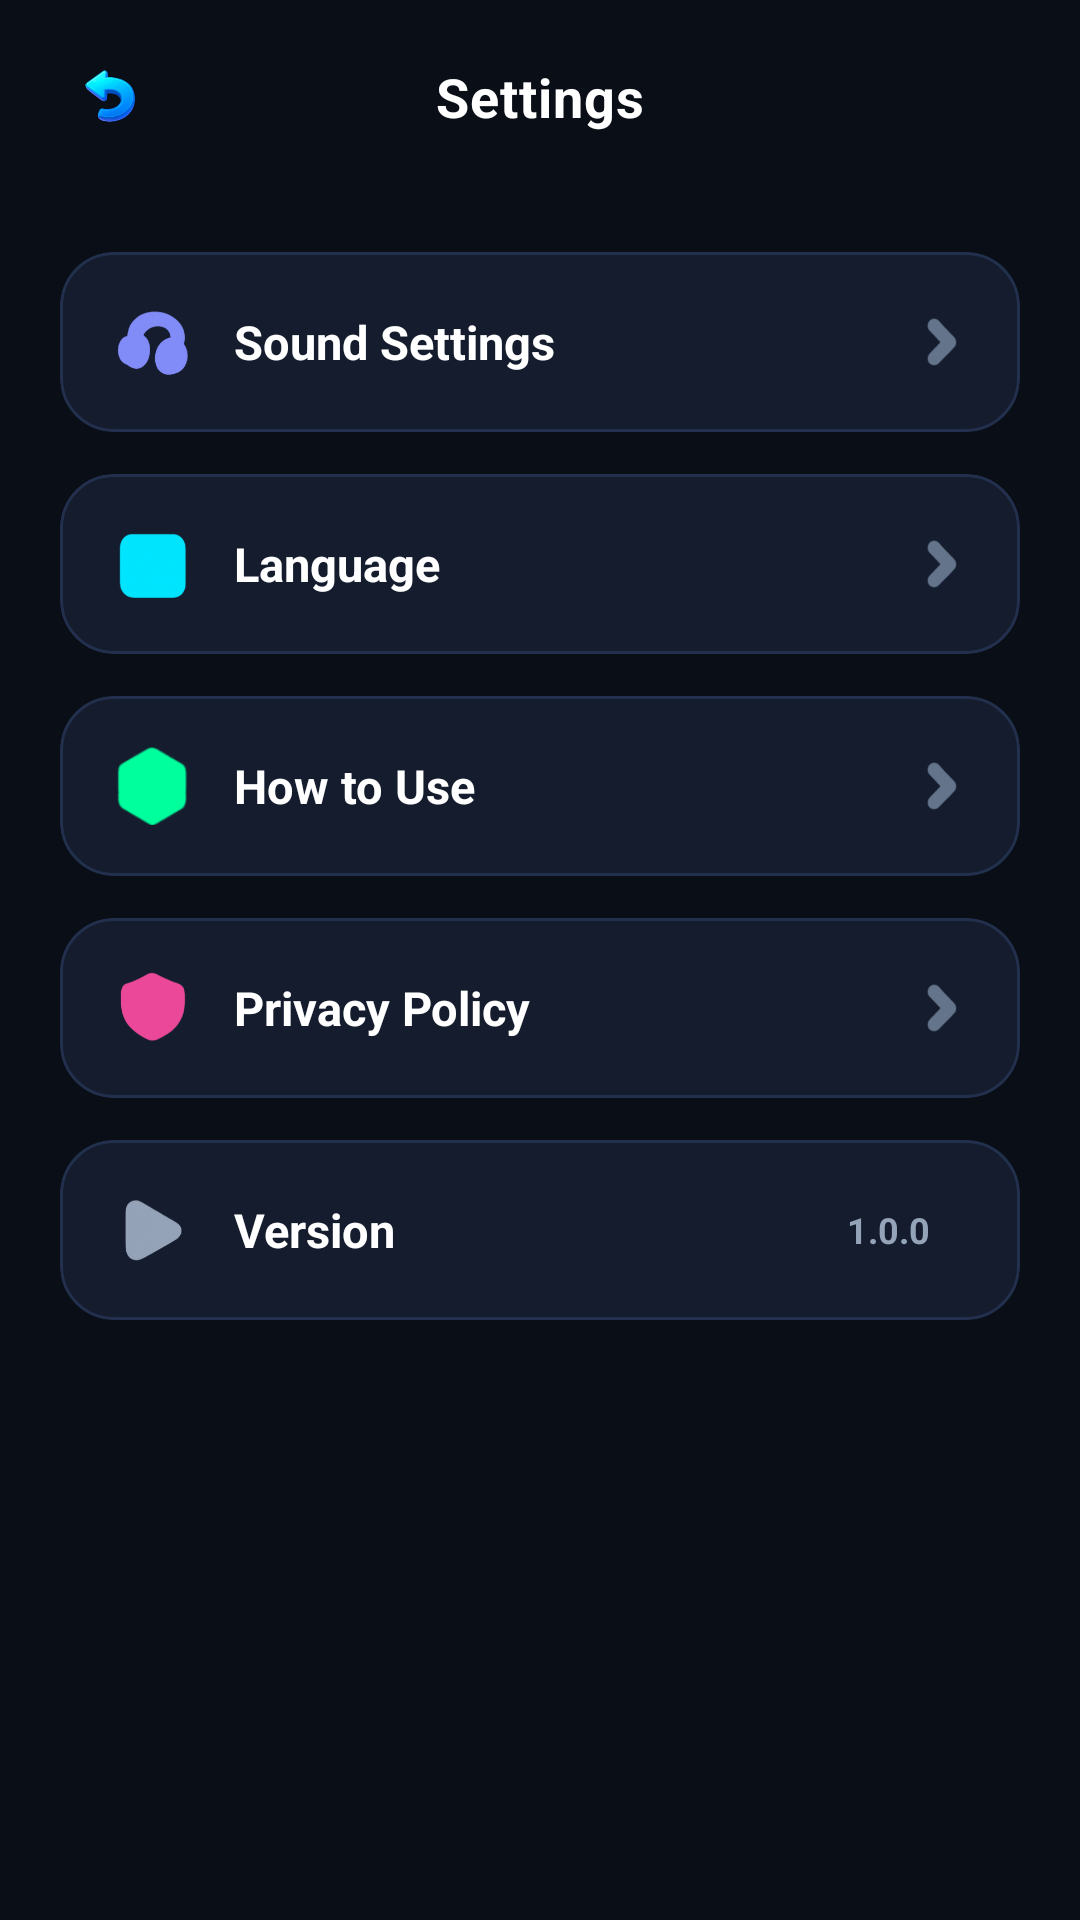

Icons on this 1080x1920 Android screen, each with its box as (x1, y1, x2, y2):
boomclap back: (85, 70, 135, 122)
boomclap settings privacy: (120, 973, 185, 1041)
boomclap settings sound: (118, 311, 188, 375)
